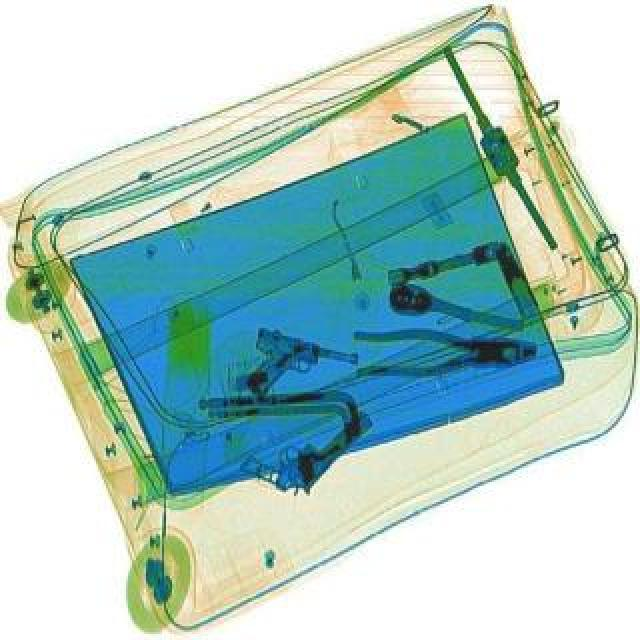gun: (242, 382, 380, 512), (242, 330, 362, 418)
wrench: (352, 328, 536, 380)
